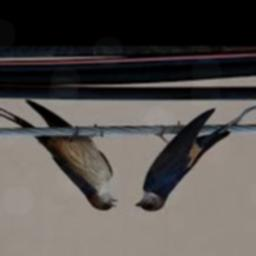Swallow: (135, 102, 256, 212), (0, 100, 118, 210)
